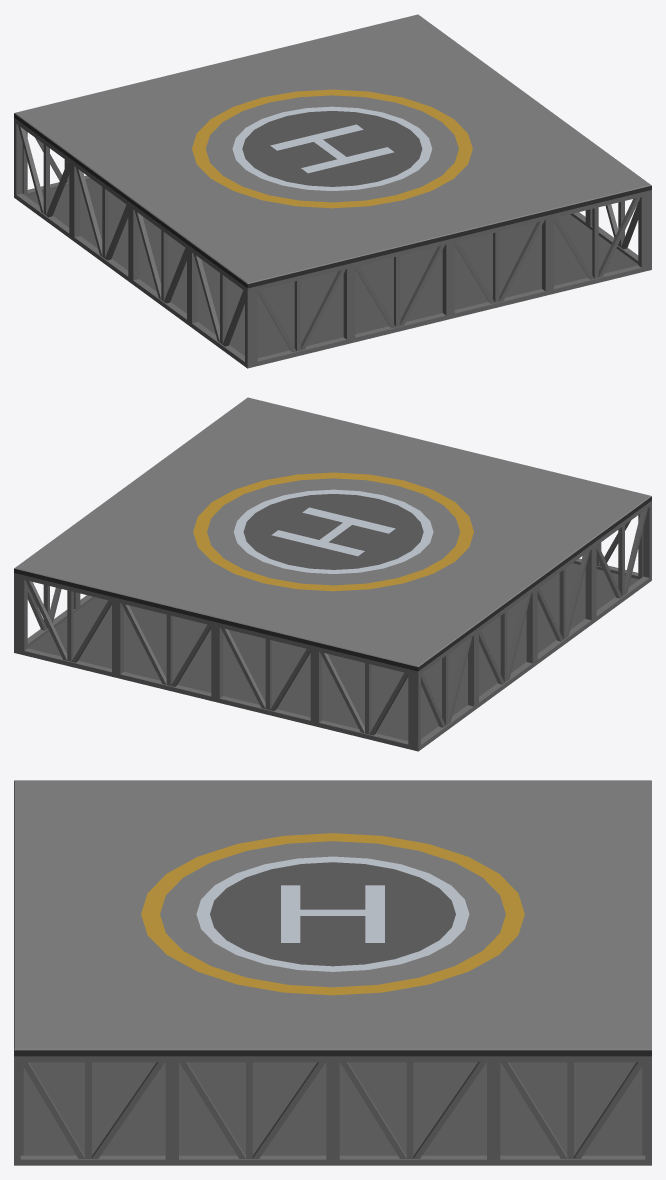
Rendered from model_heli_pad.fbx.
The picture shows the model from 3 angles, top to bottom: view 1: azimuth 30°, elevation 25°; view 2: azimuth 150°, elevation 25°; view 3: azimuth 270°, elevation 25°; orthographic projection. The views are drawn at different scales.
Parts seen in each view (by area): view 1: model_heli_pad; view 2: model_heli_pad; view 3: model_heli_pad.
Part boxes in pixels (<box>): model_heli_pad: <box>14,14,651,368</box>; model_heli_pad: <box>14,397,651,751</box>; model_heli_pad: <box>14,780,651,1165</box>.
Size of the model in its own units: 1000 by 201 by 1000.
Materials: 1 (1 with a texture image).
